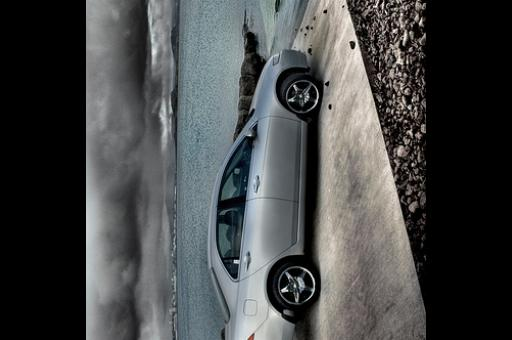Cheetah: (194, 28, 342, 340)
